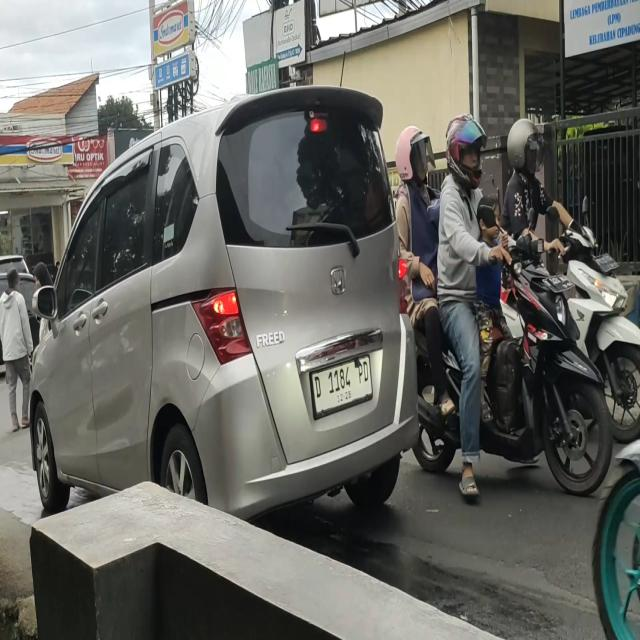helmet: (447, 115, 483, 181), (396, 126, 429, 179), (508, 119, 539, 169)
no-helmet: (480, 196, 502, 237)
